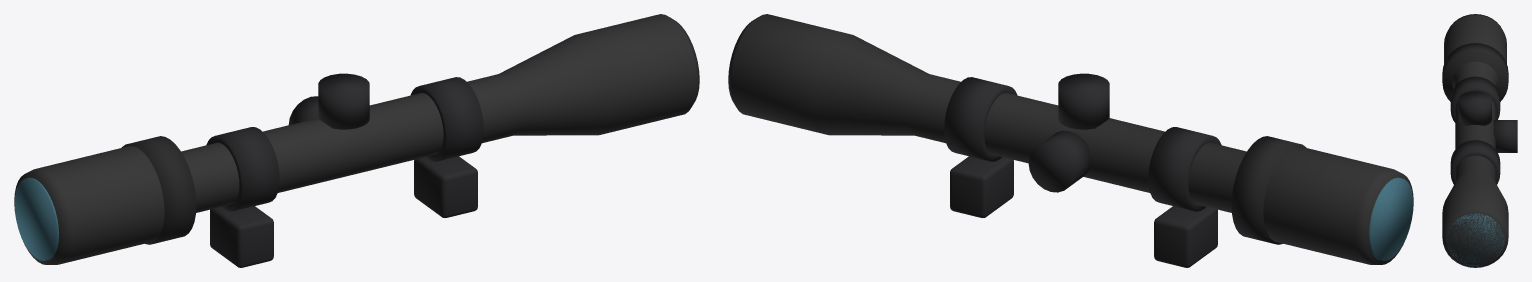
Rendered from SM_Scope.glb.
3 renders of one model, left to right at view 1: azimuth 30°, elevation 25°; view 2: azimuth 150°, elevation 25°; view 3: azimuth 270°, elevation 25°, orthographic. The views are drawn at different scales.
Visible parts, largest first — view 1: SM_Scope; view 2: SM_Scope; view 3: SM_Scope.
Part boxes in pixels (left/top/right/bottom): SM_Scope: left=14, top=14, right=699, bottom=267; SM_Scope: left=728, top=14, right=1413, bottom=267; SM_Scope: left=1442, top=14, right=1517, bottom=267.
Size of the model in its own units: 0.314 by 0.068 by 0.05.
